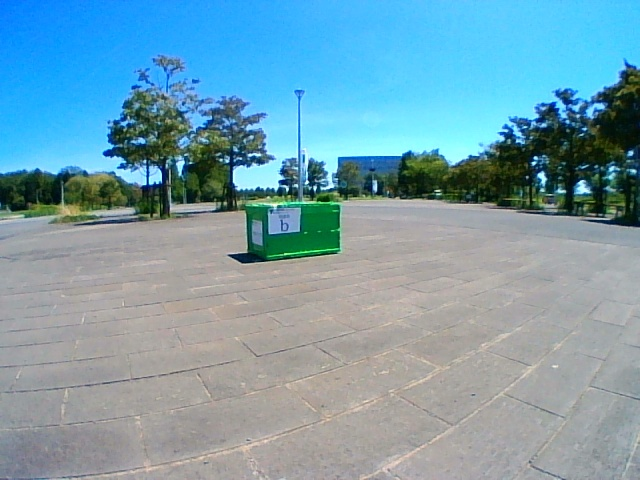green_box: (245, 203, 341, 261)
tag_b: (269, 208, 299, 232)
